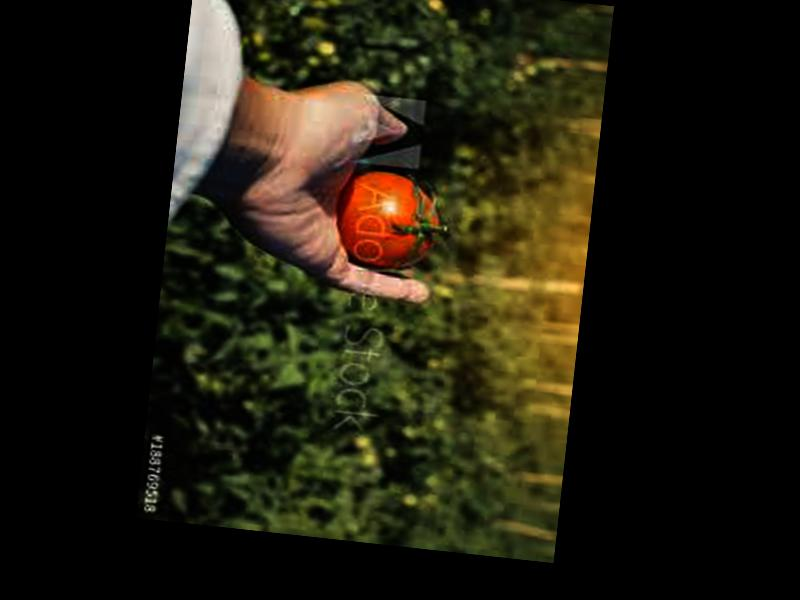Tomato: (336, 170, 442, 275)
